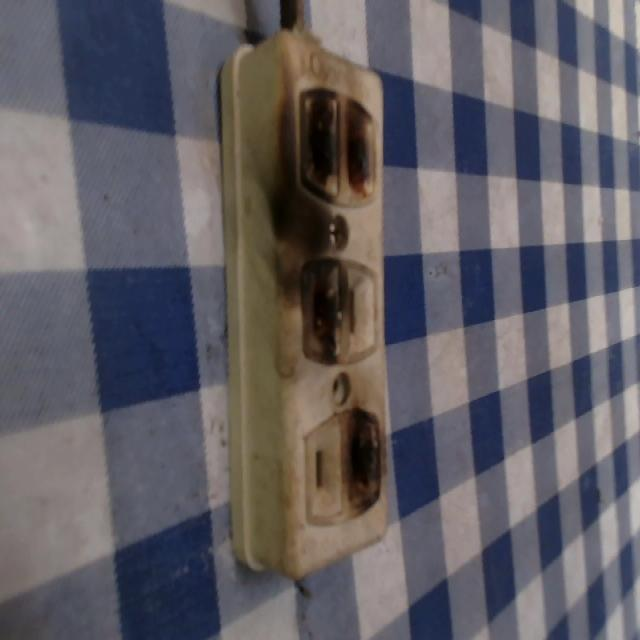-: (285, 74, 380, 214), (289, 252, 351, 363), (342, 402, 387, 514)
